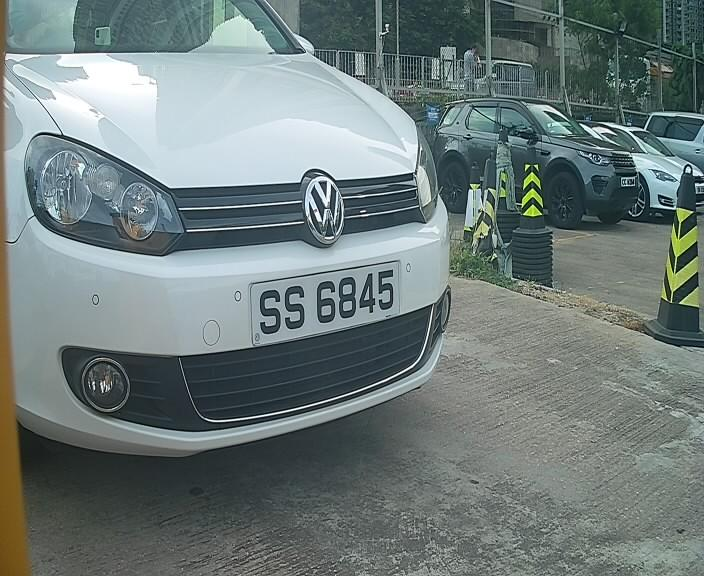License Plate: (243, 255, 406, 345)
